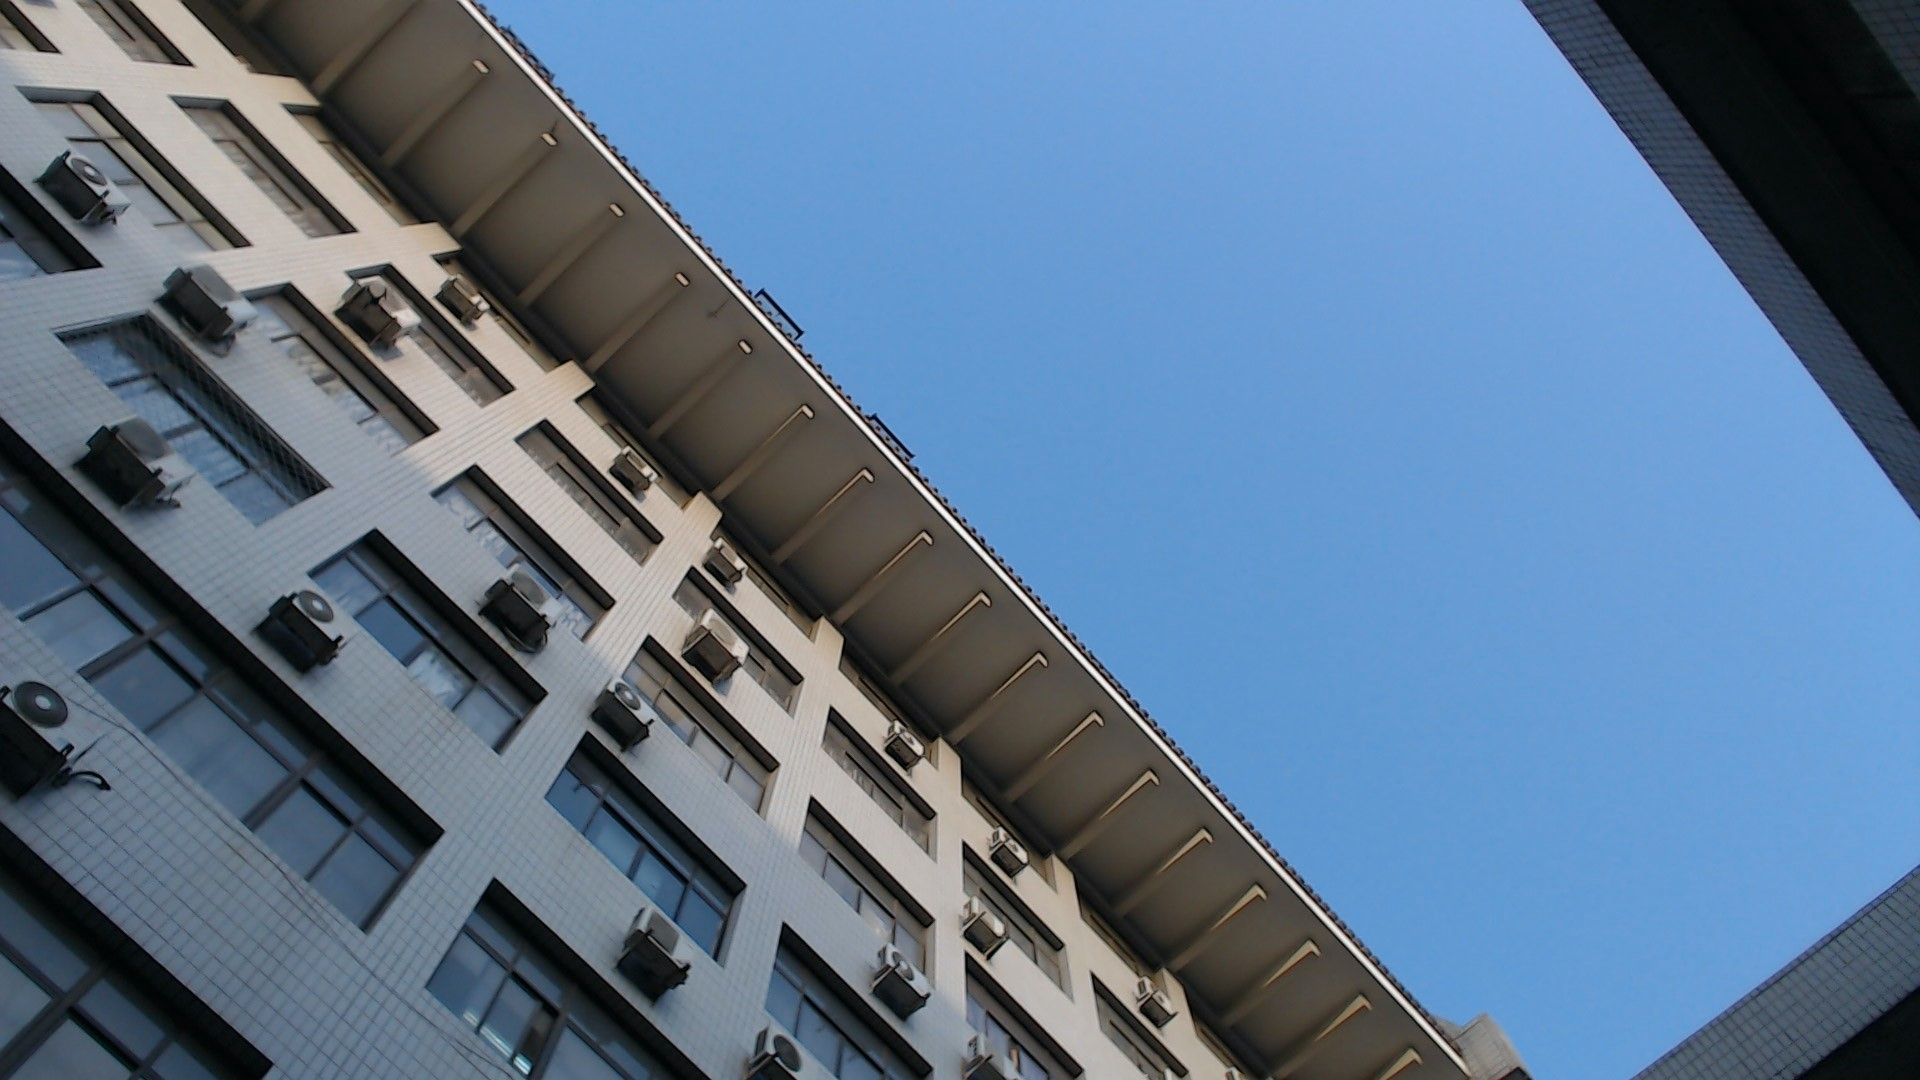drone: (353, 277, 394, 328)
